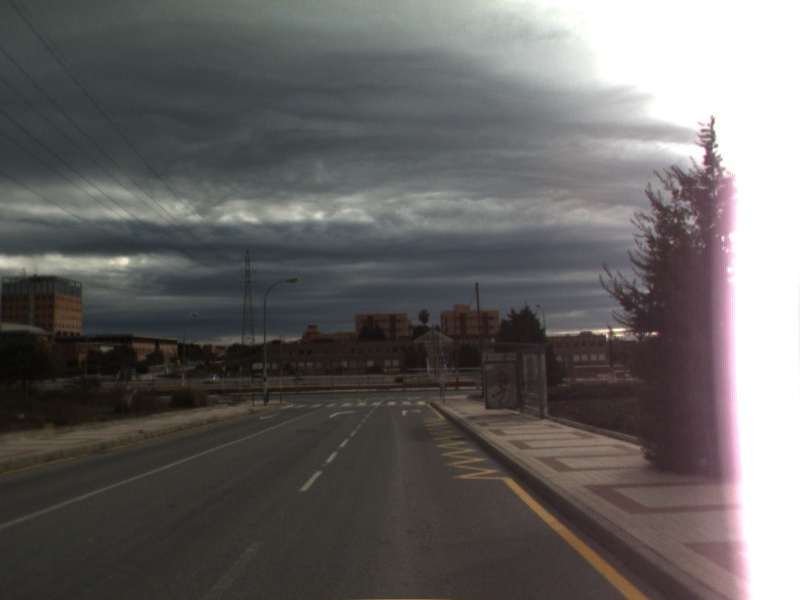RIGHT: (327, 407, 360, 420), (399, 406, 424, 418)
